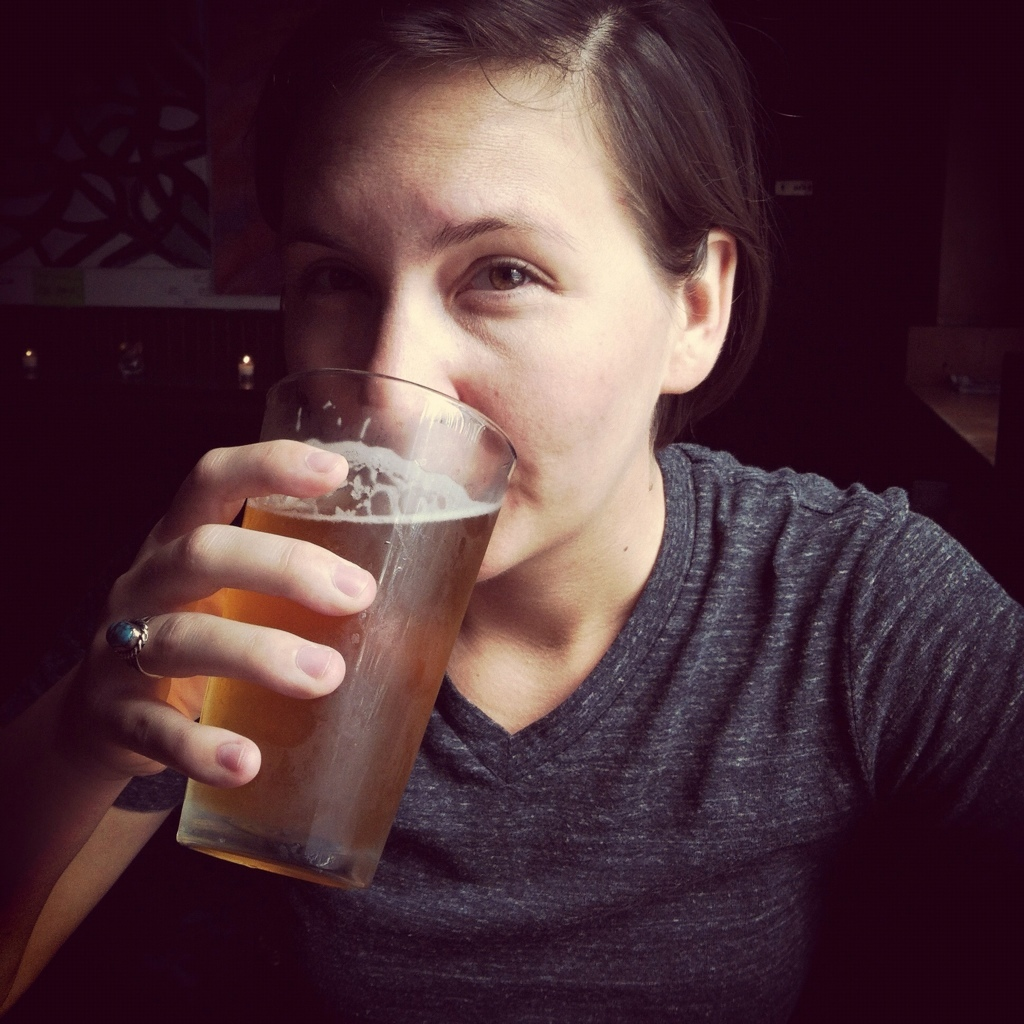Beer: (176, 364, 521, 889)
